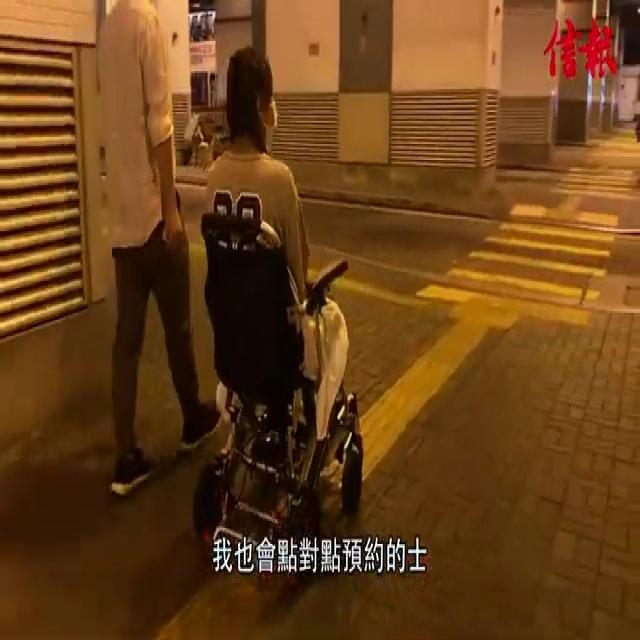wheelchairs: (185, 204, 373, 584)
